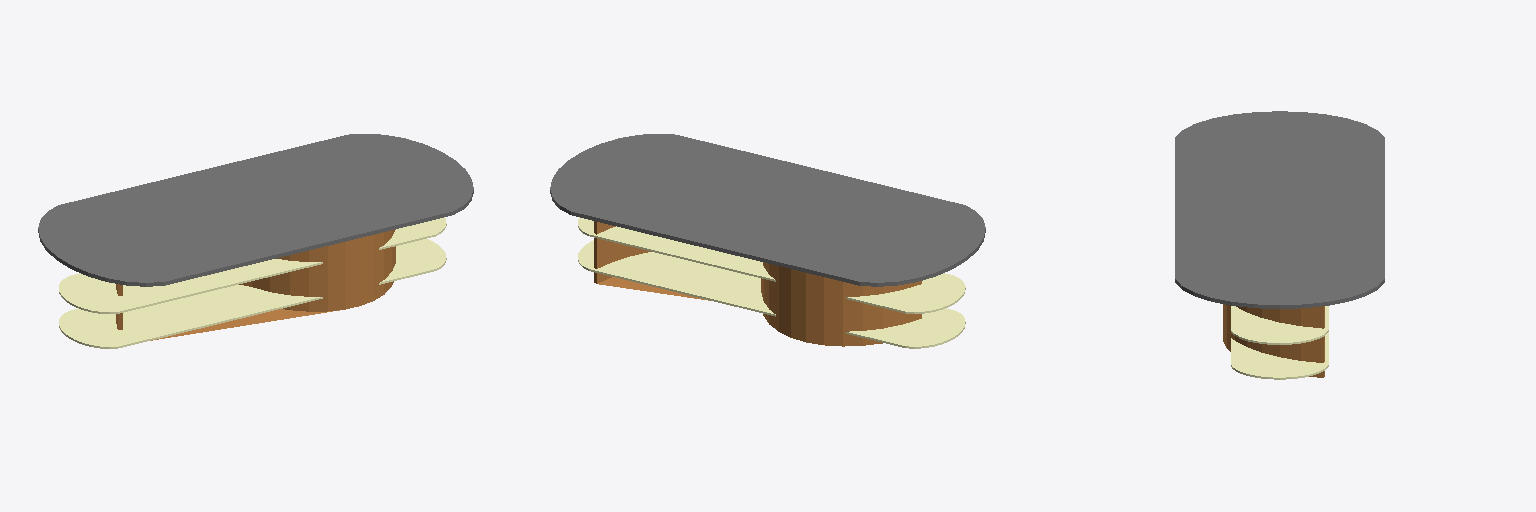
Rendered from centerTable.obj.
3 views of the same model, side by side, from view 1: azimuth 30°, elevation 25°; view 2: azimuth 150°, elevation 25°; view 3: azimuth 270°, elevation 25° (orthographic).
Visible parts, largest first — view 1: Mesh4 Component_3_1 centerTable1 Model, Mesh2 Component_2_1 centerTable1 Model, Mesh1 Component_1_1 centerTable1 Model, Mesh3 Component_2_2 centerTable1 Model; view 2: Mesh4 Component_3_1 centerTable1 Model, Mesh1 Component_1_1 centerTable1 Model, Mesh2 Component_2_1 centerTable1 Model, Mesh3 Component_2_2 centerTable1 Model; view 3: Mesh4 Component_3_1 centerTable1 Model, Mesh1 Component_1_1 centerTable1 Model, Mesh2 Component_2_1 centerTable1 Model, Mesh3 Component_2_2 centerTable1 Model.
Part boxes in pixels (bbox=[...]): Mesh4 Component_3_1 centerTable1 Model: bbox=[38, 134, 473, 286]; Mesh2 Component_2_1 centerTable1 Model: bbox=[59, 239, 446, 348]; Mesh1 Component_1_1 centerTable1 Model: bbox=[116, 229, 395, 340]; Mesh3 Component_2_2 centerTable1 Model: bbox=[59, 217, 446, 313]; Mesh4 Component_3_1 centerTable1 Model: bbox=[550, 134, 985, 286]; Mesh1 Component_1_1 centerTable1 Model: bbox=[594, 221, 921, 346]; Mesh2 Component_2_1 centerTable1 Model: bbox=[578, 240, 965, 348]; Mesh3 Component_2_2 centerTable1 Model: bbox=[578, 217, 965, 313]; Mesh4 Component_3_1 centerTable1 Model: bbox=[1175, 111, 1384, 308]; Mesh1 Component_1_1 centerTable1 Model: bbox=[1223, 304, 1324, 377]; Mesh2 Component_2_1 centerTable1 Model: bbox=[1231, 332, 1328, 379]; Mesh3 Component_2_2 centerTable1 Model: bbox=[1231, 306, 1328, 344].
Bounding box in the file's own units: 2.12 × 0.4875 × 0.9719.